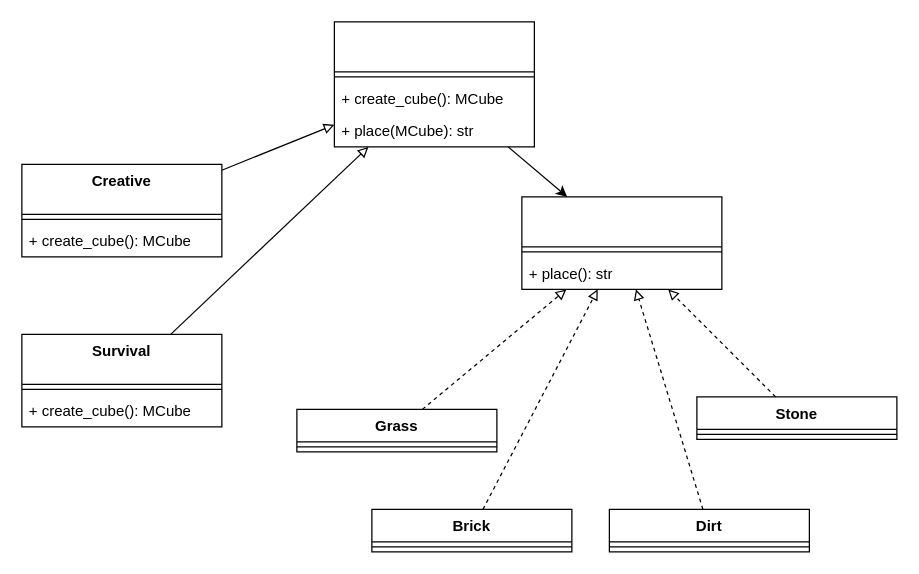
The diagram is 919 pixels wide and 574 high, and some of its shapes have lost their labels. Here are the shapes that lost their labels. From the top down, the box of each, then its label:
(333, 21, 534, 147): GameMode
(521, 196, 722, 289): <<Interface>> MCube
